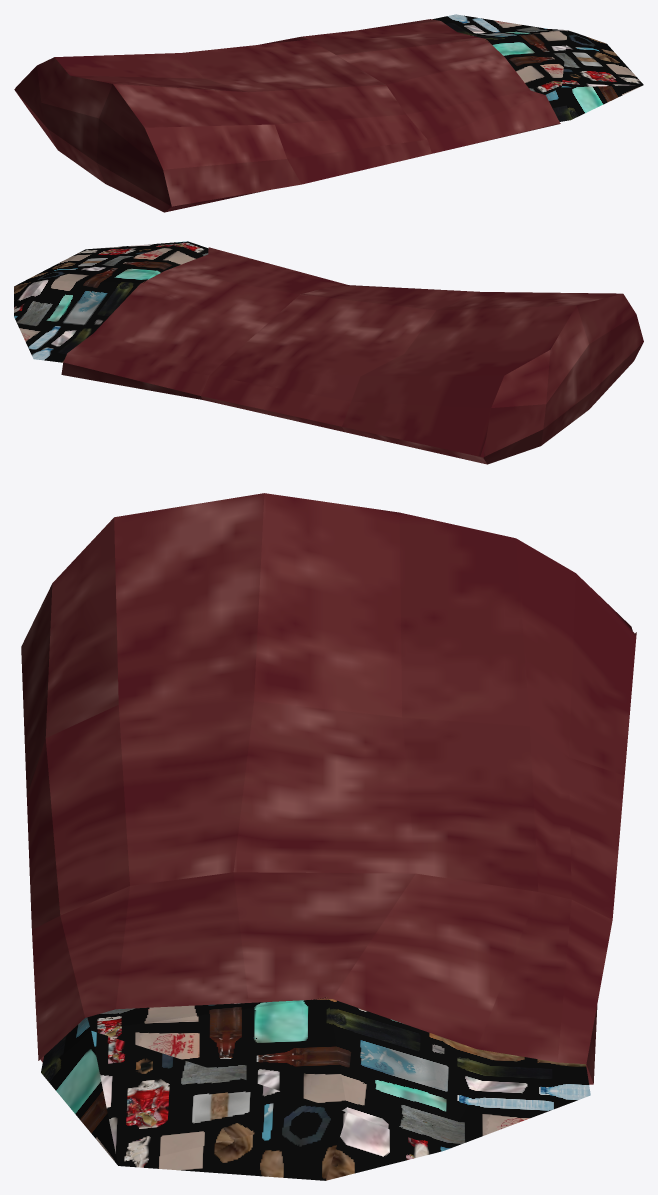
The model's file is Urban_Trashbag3Red_Model.fbx.
The picture shows the model from 3 angles, top to bottom: view 1: azimuth 30°, elevation 25°; view 2: azimuth 150°, elevation 25°; view 3: azimuth 270°, elevation 25°; orthographic projection. The views are drawn at different scales.
Visible parts, largest first — view 1: Urban_Trashbag3Red_Mesh; view 2: Urban_Trashbag3Red_Mesh; view 3: Urban_Trashbag3Red_Mesh.
Part boxes in pixels (<box>): Urban_Trashbag3Red_Mesh: <box>14,14,643,212</box>; Urban_Trashbag3Red_Mesh: <box>14,241,643,464</box>; Urban_Trashbag3Red_Mesh: <box>21,493,636,1180</box>.
Size of the model in its own units: 1.73 by 0.3175 by 0.8694.
